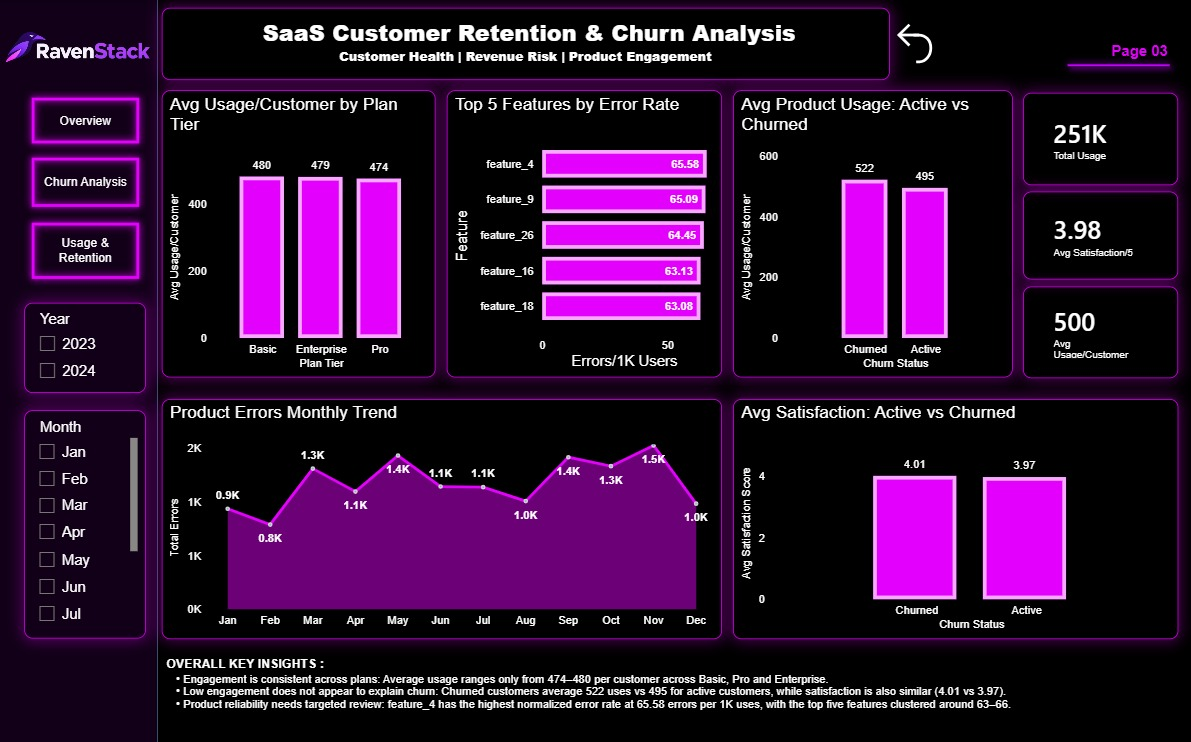

Layout of this report page (visuals, bound fields, positions):
{"tool":"powerbi","page":{"name":"Product Usage & Retention","canvas":[1280,800],"ordinal":2},"visuals":[{"type":"shape","box":[0,0,171.6,800.3],"z":0},{"type":"cardVisual","fields":{"Data":["DateTable.Total Usage"]},"box":[1099.8,100.5,166.3,99.3],"z":1000},{"type":"cardVisual","fields":{"Data":["ravenstack_support_tickets.Average Satisfaction"]},"box":[1099.8,206.7,166.3,94.3],"z":2000},{"type":"cardVisual","fields":{"Data":["ravenstack_feature_usage.Avg Usage/Customer"]},"box":[1099.8,307.8,166.3,98.1],"z":3000},{"type":"clusteredBarChart","title":"Top 5 Features by Error Rate","fields":{"Category":["ravenstack_feature_usage.Feature"],"Y":["ravenstack_feature_usage.Errors/1K Users"]},"box":[481.2,97.9,294.9,308.3],"z":4000},{"type":"clusteredColumnChart","title":"Avg Product Usage: Active vs Churned","fields":{"Category":["ravenstack_accounts.Customer Status"],"Y":["ravenstack_feature_usage.Avg Usage/Customer"]},"box":[788.2,97.9,300.3,308.3],"z":5000},{"type":"lineChart","title":"Product Errors Monthly Trend","fields":{"Category":["DateTable.Month"],"Y":["ravenstack_feature_usage.Total Errors"]},"box":[175.6,429,600.5,257.4],"z":6000},{"type":"clusteredColumnChart","title":"Avg Satisfaction: Active vs Churned","fields":{"Y":["Avg(ravenstack_support_tickets.satisfaction_score)"],"Category":["ravenstack_accounts.Customer Status"]},"box":[788.2,429,477.2,257.4],"z":7000},{"type":"clusteredColumnChart","fields":{"Category":["ravenstack_subscriptions.plan_tier"],"Y":["ravenstack_feature_usage.Avg Usage/Customer"]},"box":[175.6,97.9,293.6,308.3],"z":8000},{"type":"actionButton","box":[27.5,97.5,131.2,65],"z":9000},{"type":"actionButton","box":[27.5,162.5,131.2,68.8],"z":10000},{"type":"actionButton","box":[27.5,231.2,131.2,76.2],"z":11000},{"type":"slicer","fields":{"Values":["DateTable.Year"]},"box":[27.7,325.7,130.3,96.5],"z":12000},{"type":"slicer","fields":{"Values":["DateTable.Month"]},"box":[27.7,441.6,130.3,244.9],"z":13000},{"type":"textbox","box":[175.6,9.4,780.6,77.2],"z":14000},{"type":"textbox","box":[175.6,701.1,1089.8,85.8],"z":15000},{"type":"actionButton","box":[955.8,20.1,59,55],"z":16000},{"type":"shape","box":[1138.1,0,127.3,142.1],"z":17000},{"type":"textbox","box":[1189,41.6,91.2,29.5],"z":18000},{"type":"image","box":[0,0,171.6,92.5],"z":19000}]}

Visuals, with their boxes in screenshot pixels (x1, y1, x2, y2), scaled from the page's 1280x800 canvas onto the 1191x742 screenshot:
shape: (left=0, top=0, right=160, bottom=741)
cardVisual - DateTable.Total Usage: (left=1023, top=93, right=1178, bottom=185)
cardVisual - ravenstack_support_tickets.Average Satisfaction: (left=1023, top=192, right=1178, bottom=279)
cardVisual - ravenstack_feature_usage.Avg Usage/Customer: (left=1023, top=285, right=1178, bottom=376)
"Top 5 Features by Error Rate" clusteredBarChart: (left=448, top=91, right=722, bottom=377)
"Avg Product Usage: Active vs Churned" clusteredColumnChart: (left=733, top=91, right=1013, bottom=377)
"Product Errors Monthly Trend" lineChart: (left=163, top=398, right=722, bottom=637)
"Avg Satisfaction: Active vs Churned" clusteredColumnChart: (left=733, top=398, right=1177, bottom=637)
clusteredColumnChart - ravenstack_subscriptions.plan_tier x ravenstack_feature_usage.Avg Usage/Customer: (left=163, top=91, right=437, bottom=377)
actionButton: (left=26, top=90, right=148, bottom=151)
actionButton: (left=26, top=151, right=148, bottom=215)
actionButton: (left=26, top=214, right=148, bottom=285)
slicer - DateTable.Year: (left=26, top=302, right=147, bottom=392)
slicer - DateTable.Month: (left=26, top=410, right=147, bottom=637)
textbox: (left=163, top=9, right=890, bottom=80)
textbox: (left=163, top=650, right=1177, bottom=730)
actionButton: (left=889, top=19, right=944, bottom=70)
shape: (left=1059, top=0, right=1177, bottom=132)
textbox: (left=1106, top=39, right=1190, bottom=66)
image: (left=0, top=0, right=160, bottom=86)
